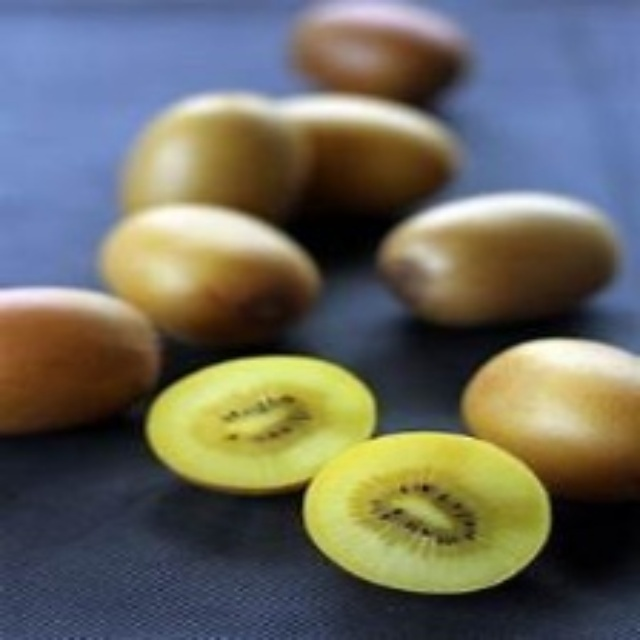kiwi: (148, 354, 569, 599), (278, 9, 473, 212), (384, 185, 618, 310), (100, 80, 314, 211), (93, 222, 322, 336), (2, 282, 164, 443), (479, 322, 639, 475)
